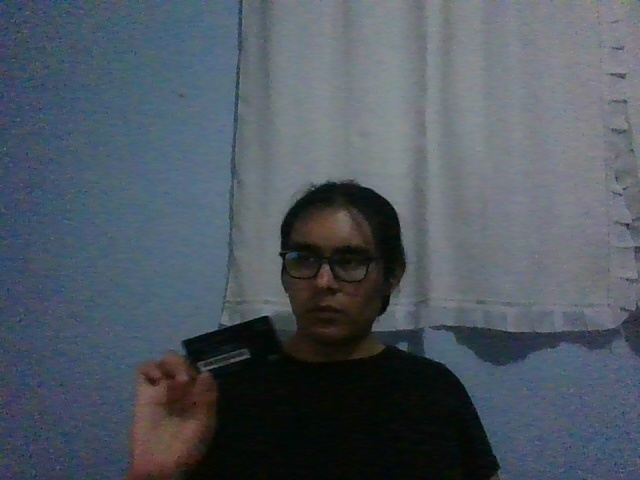tarjeta: (179, 314, 286, 376)
